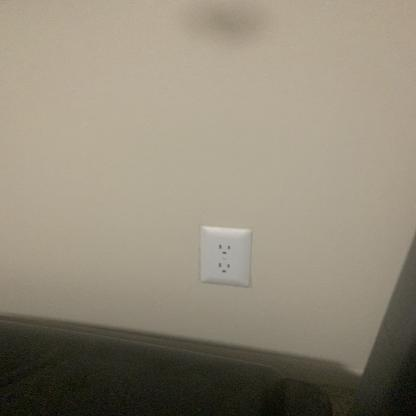OUTLET: (198, 226, 252, 288)
